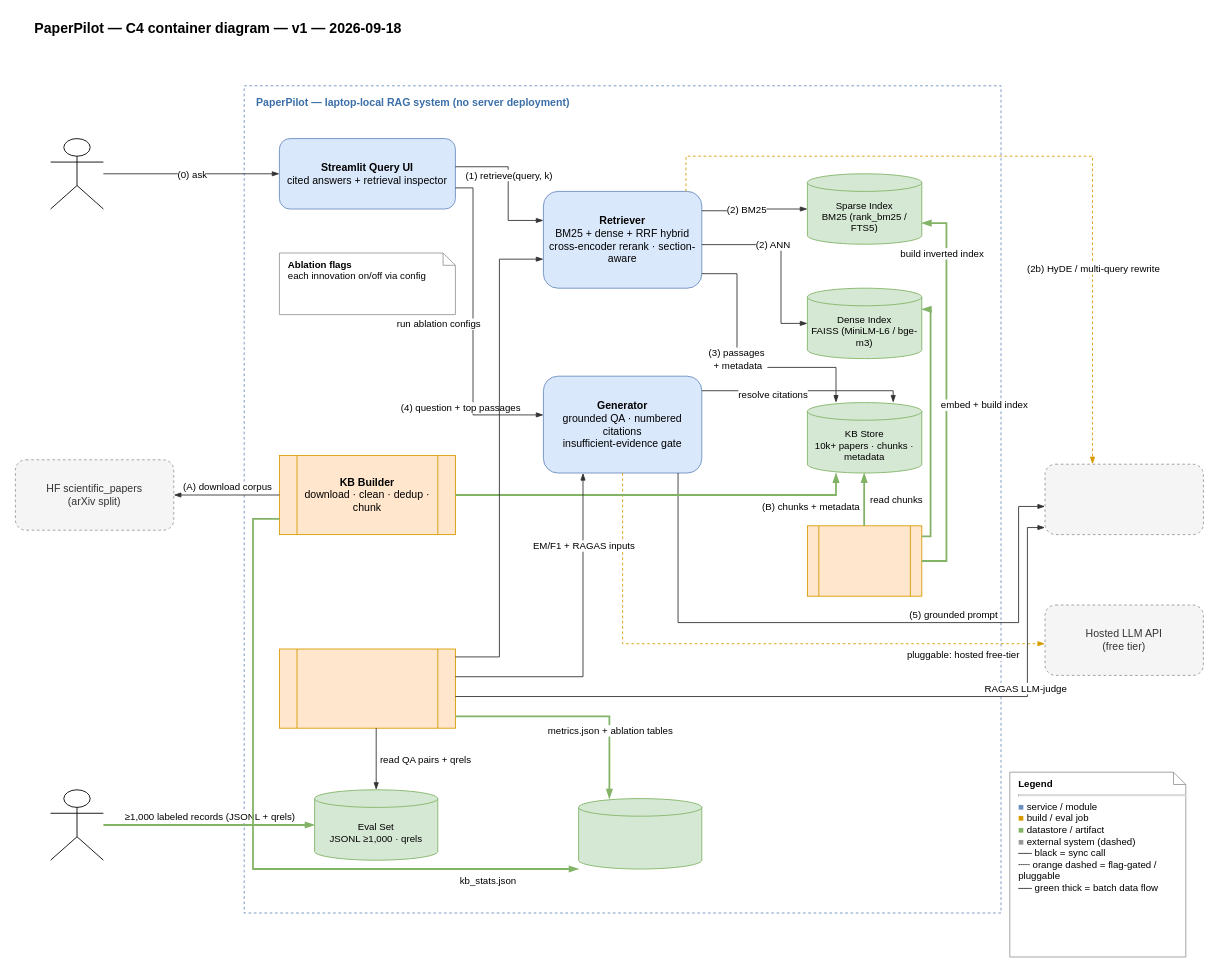
Some shapes in this 1219 by 972 pixel diagram are drawn without their labels. The centre of each missing label's shape, as x and y in pixels:
"Annotator (2-3)" goes at [76,824].
"Eval Harness ir_measures · EM/F1 · RAGAS" goes at [367,688].
"Indexer (make index)" goes at [864,560].
"Ollama (local) Qwen2.5-7B / Llama-3.1-8B" goes at [1123,499].
"Reports metrics.json · ablations" goes at [640,833].
"Researcher" goes at [76,173].
